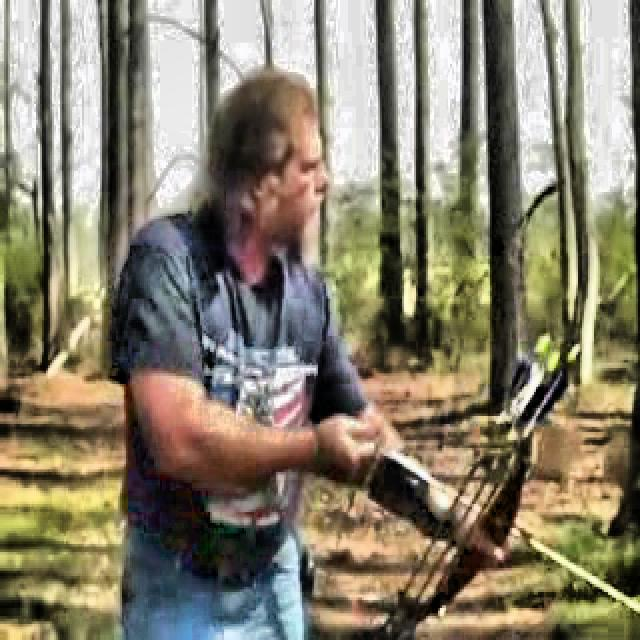I: (102, 65, 520, 567)
